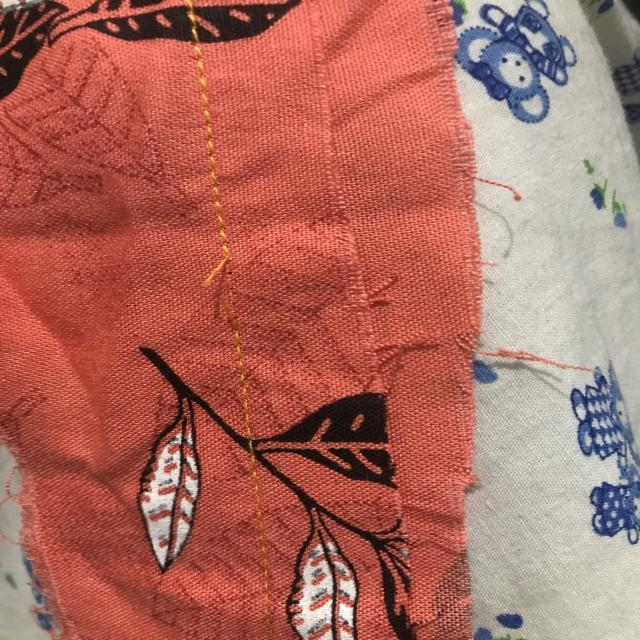broken: (179, 250, 273, 354)
good: (188, 108, 248, 229)
